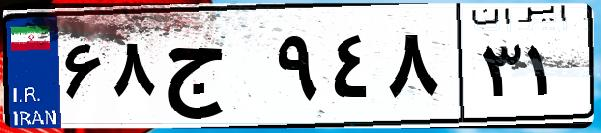1: (525, 38, 570, 115)
3: (475, 38, 525, 113)
4: (330, 28, 385, 110)
6: (57, 26, 110, 100)
8: (385, 28, 445, 110), (110, 28, 158, 98)
9: (270, 28, 330, 110)
ج: (158, 20, 270, 120)
